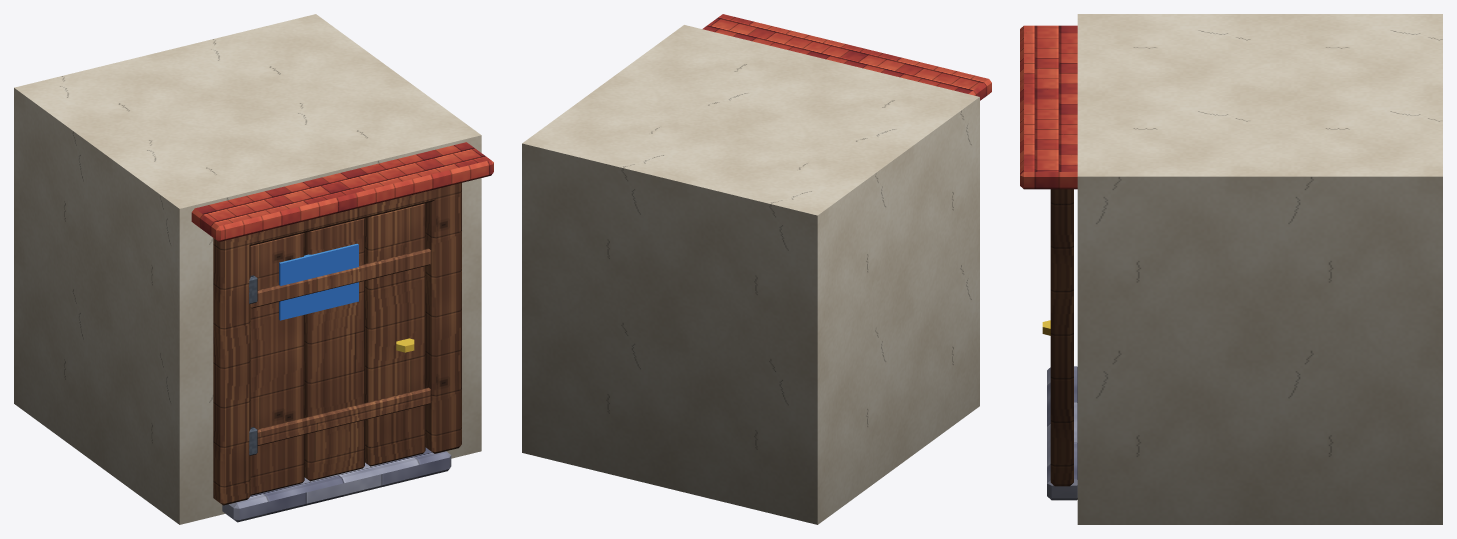
File: door.glb
3 renders of one model, left to right at view 1: azimuth 30°, elevation 25°; view 2: azimuth 150°, elevation 25°; view 3: azimuth 270°, elevation 25°, orthographic. The views are drawn at different scales.
Visible parts, largest first — view 1: door; view 2: door; view 3: door.
Part boxes in pixels (<box>): door: <box>14,14,493,524</box>; door: <box>522,14,991,524</box>; door: <box>1020,14,1442,524</box>.
Size of the model in its own units: 1 by 1 by 1.1.
9 materials, 9 textured.
